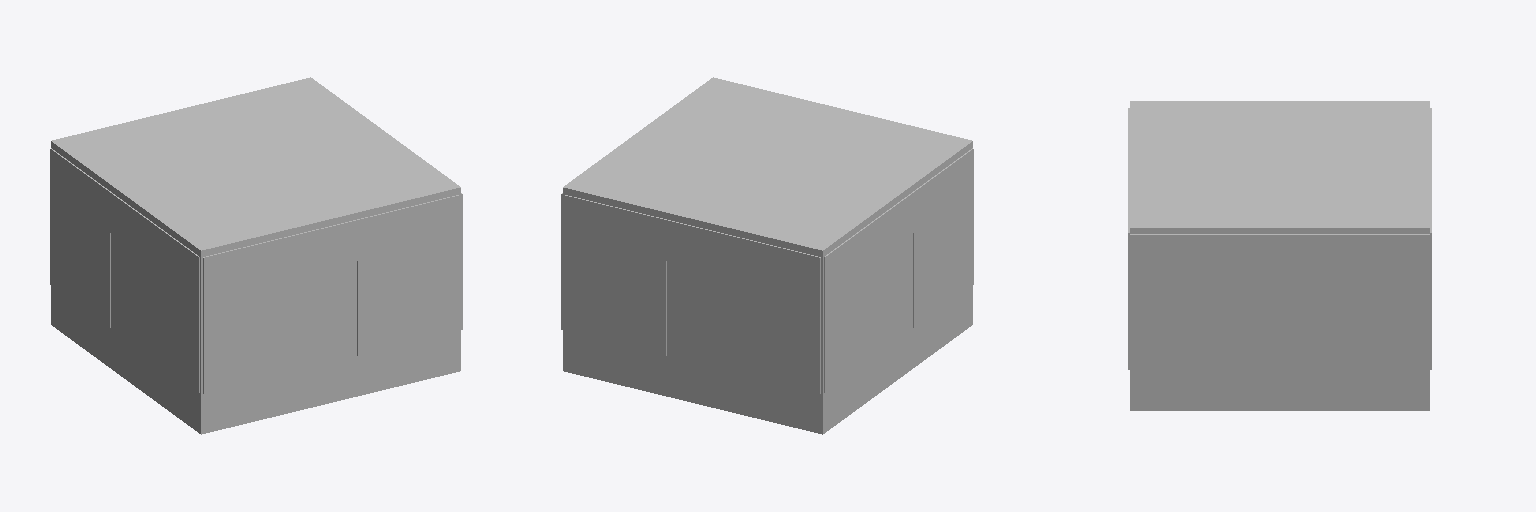
The model's file is 1x1_hotel_room_T_pos_x.obj.
3 views of the same model, side by side, from view 1: azimuth 30°, elevation 25°; view 2: azimuth 150°, elevation 25°; view 3: azimuth 270°, elevation 25° (orthographic).
Visible parts, largest first — view 1: UCX_1x1_hotel_room_T_pos_x_11, UCX_1x1_hotel_room_T_pos_x_00, UCX_1x1_hotel_room_T_pos_x_08, UCX_1x1_hotel_room_T_pos_x_07, 1x1_hotel_room_T_pos_x, UCX_1x1_hotel_room_T_pos_x_02, UCX_1x1_hotel_room_T_pos_x_01, UCX_1x1_hotel_room_T_pos_x_09, UCX_1x1_hotel_room_T_pos_x_03; view 2: UCX_1x1_hotel_room_T_pos_x_11, UCX_1x1_hotel_room_T_pos_x_00, UCX_1x1_hotel_room_T_pos_x_05, UCX_1x1_hotel_room_T_pos_x_04, 1x1_hotel_room_T_pos_x, UCX_1x1_hotel_room_T_pos_x_01, UCX_1x1_hotel_room_T_pos_x_02, UCX_1x1_hotel_room_T_pos_x_06, UCX_1x1_hotel_room_T_pos_x_03; view 3: UCX_1x1_hotel_room_T_pos_x_10, UCX_1x1_hotel_room_T_pos_x_11, UCX_1x1_hotel_room_T_pos_x_00.
Part boxes in pixels (x1,y1,x2,y2): UCX_1x1_hotel_room_T_pos_x_11: (51, 77, 460, 256); UCX_1x1_hotel_room_T_pos_x_00: (51, 286, 460, 434); UCX_1x1_hotel_room_T_pos_x_08: (203, 232, 305, 393); UCX_1x1_hotel_room_T_pos_x_07: (357, 195, 459, 355); 1x1_hotel_room_T_pos_x: (51, 147, 460, 394); UCX_1x1_hotel_room_T_pos_x_02: (50, 148, 110, 327); UCX_1x1_hotel_room_T_pos_x_01: (140, 214, 199, 392); UCX_1x1_hotel_room_T_pos_x_09: (305, 220, 357, 272); UCX_1x1_hotel_room_T_pos_x_03: (110, 192, 140, 254); UCX_1x1_hotel_room_T_pos_x_11: (563, 77, 972, 258); UCX_1x1_hotel_room_T_pos_x_00: (563, 286, 972, 434); UCX_1x1_hotel_room_T_pos_x_05: (718, 232, 820, 393); UCX_1x1_hotel_room_T_pos_x_04: (564, 195, 666, 355); 1x1_hotel_room_T_pos_x: (563, 147, 972, 394); UCX_1x1_hotel_room_T_pos_x_01: (913, 148, 973, 327); UCX_1x1_hotel_room_T_pos_x_02: (824, 214, 883, 392); UCX_1x1_hotel_room_T_pos_x_06: (666, 220, 718, 272); UCX_1x1_hotel_room_T_pos_x_03: (883, 192, 913, 254); UCX_1x1_hotel_room_T_pos_x_10: (1130, 234, 1429, 370); UCX_1x1_hotel_room_T_pos_x_11: (1130, 101, 1429, 233); UCX_1x1_hotel_room_T_pos_x_00: (1130, 371, 1429, 410).
Bounding box in the file's own units: 20.2 × 13.5 × 20.2.